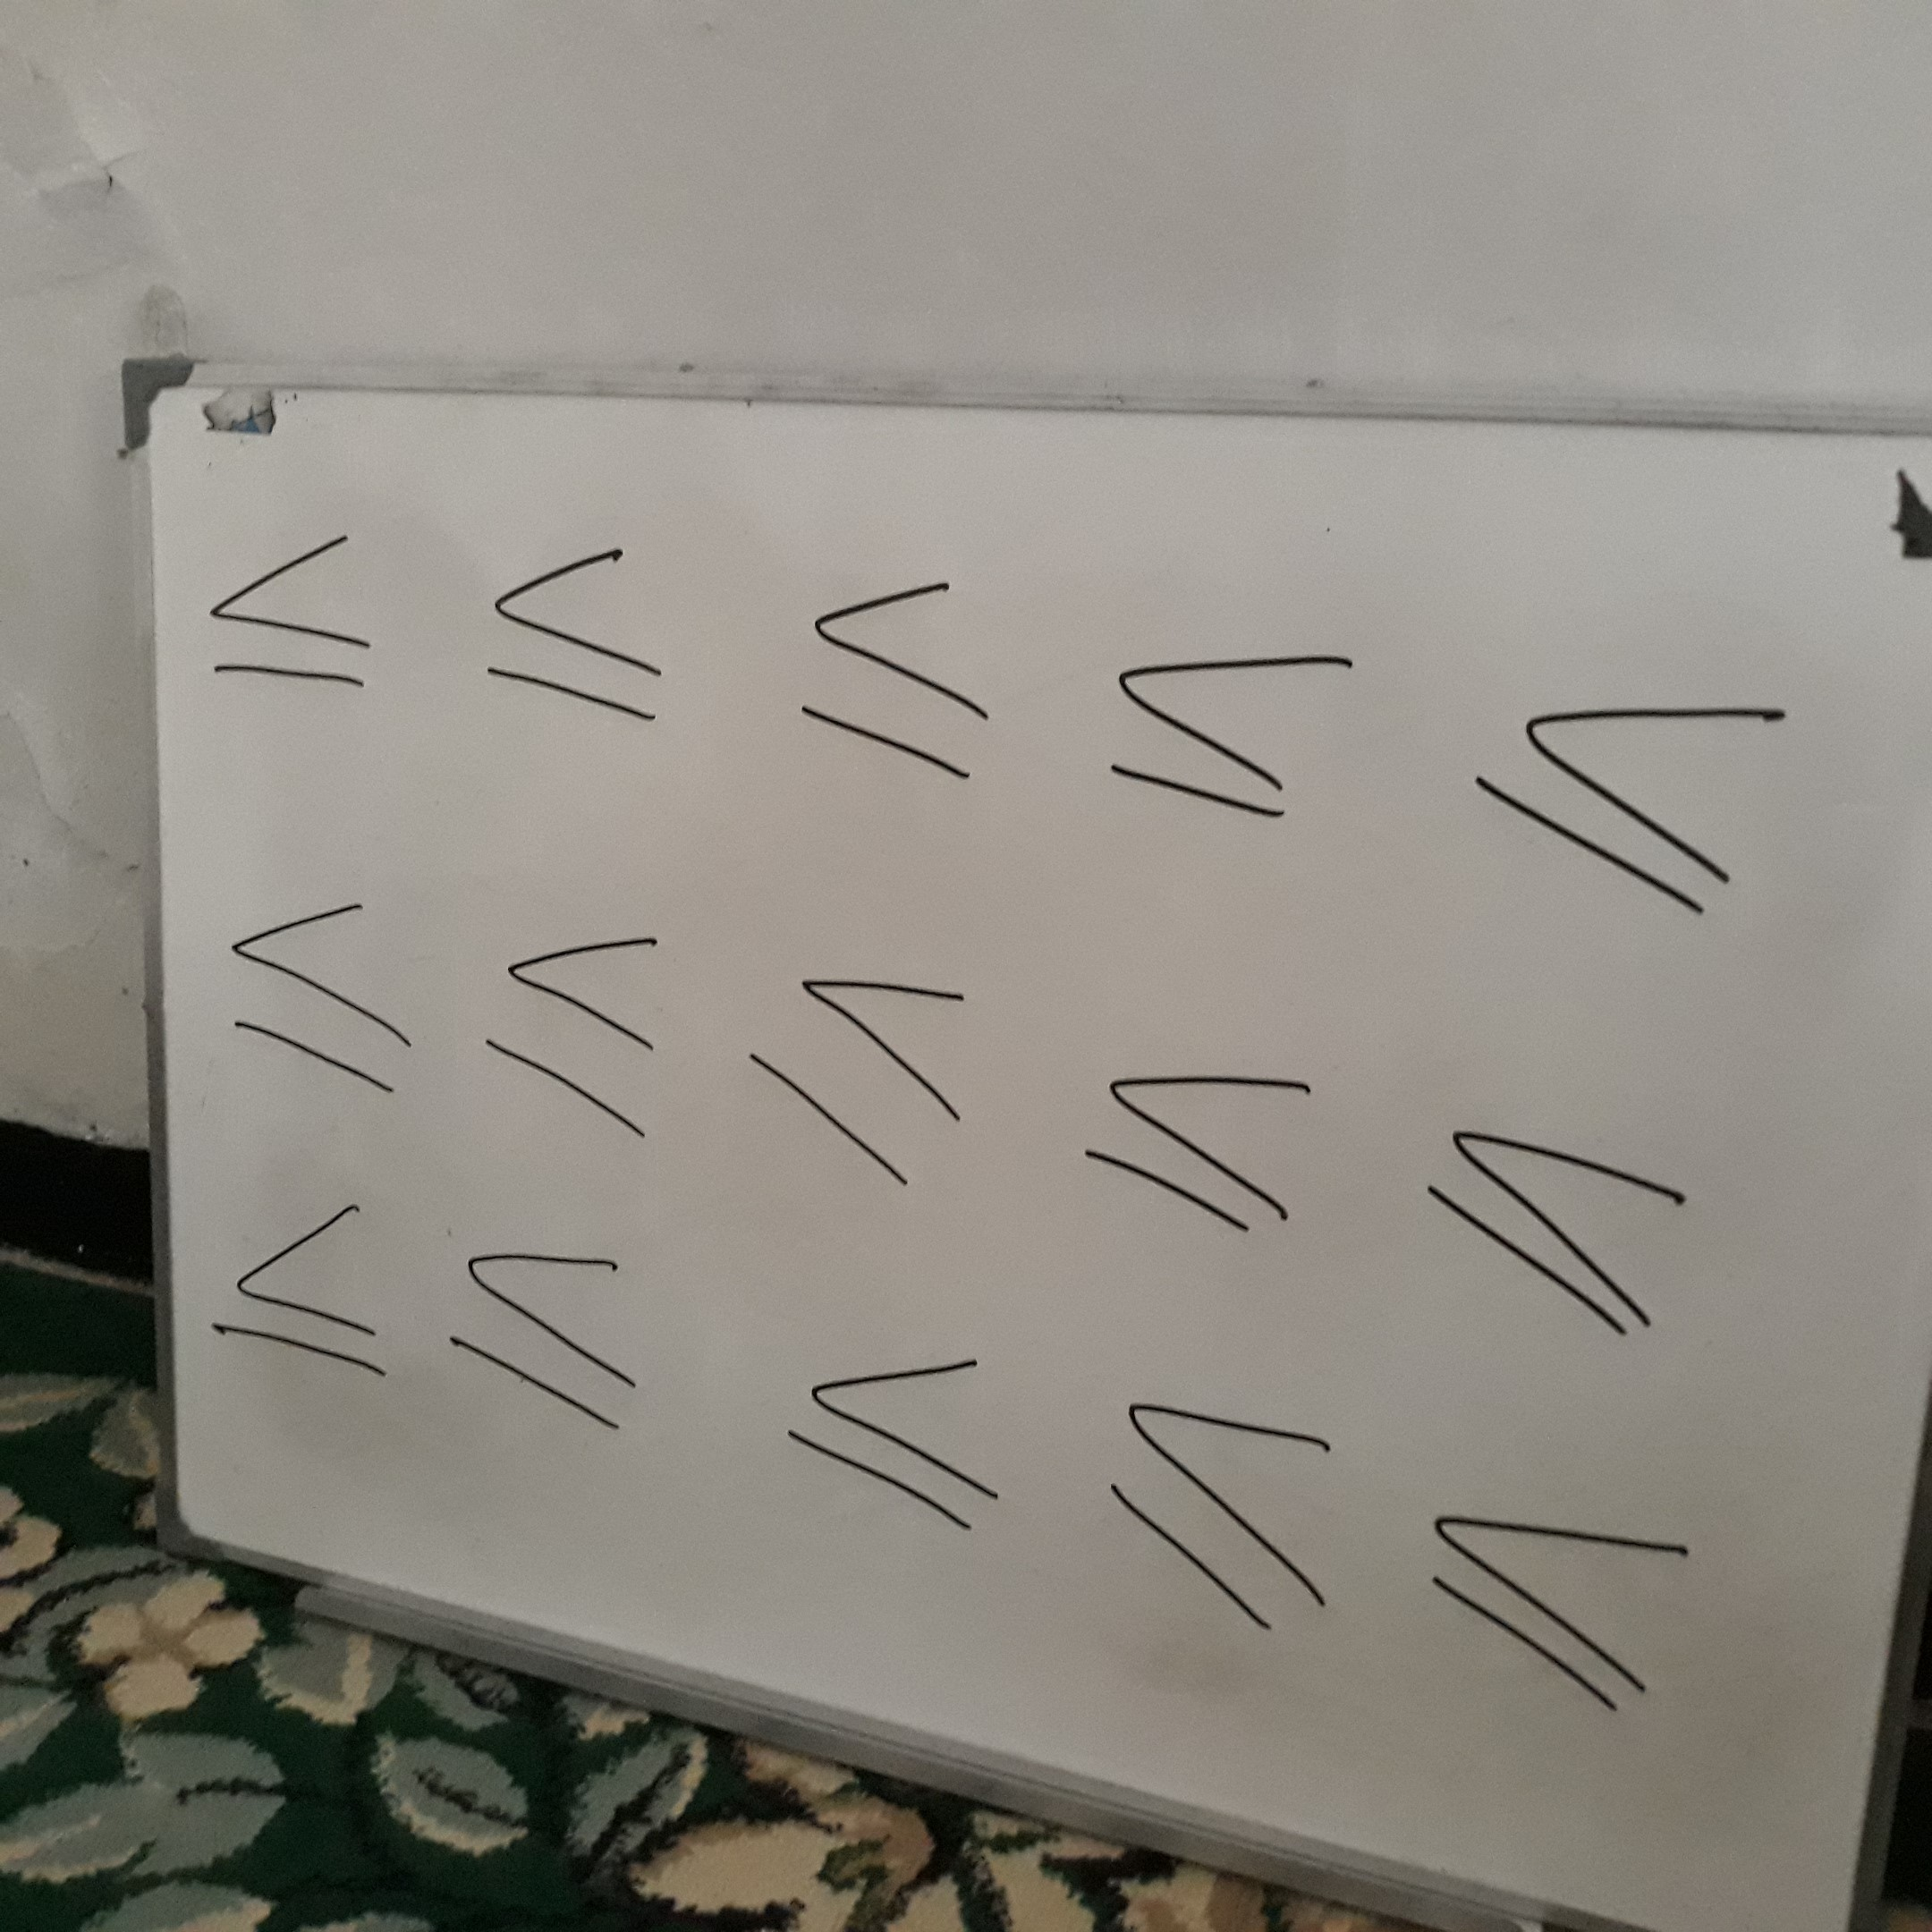lessthan-equal: (1460, 665, 1806, 919), (1422, 1448, 1706, 1714), (1412, 1101, 1696, 1365), (724, 919, 977, 1210), (1089, 1367, 1346, 1644), (1064, 1046, 1343, 1266), (1096, 619, 1372, 834), (196, 867, 434, 1115), (474, 894, 686, 1152), (773, 1329, 1016, 1538), (786, 563, 1004, 794), (187, 1184, 404, 1406), (436, 1220, 653, 1442), (179, 508, 401, 715), (470, 521, 692, 727)
